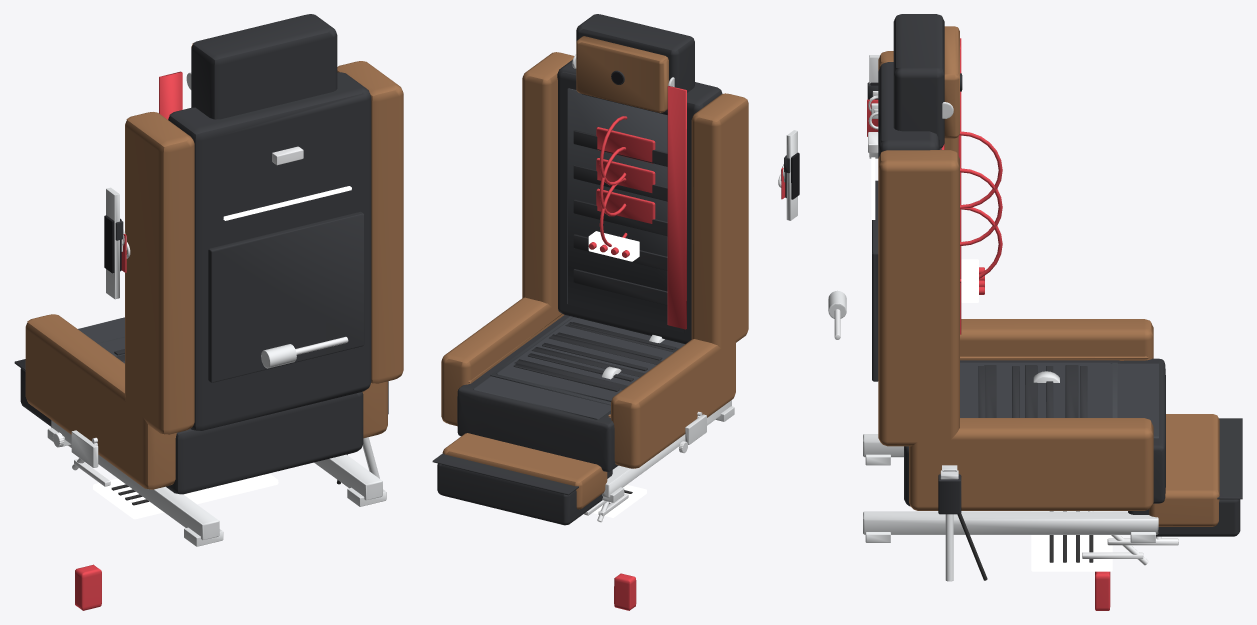
File: seat_executive_lounge.glb
The picture shows the model from 3 angles, left to right: view 1: azimuth 30°, elevation 25°; view 2: azimuth 150°, elevation 25°; view 3: azimuth 270°, elevation 25°; orthographic projection. The views are drawn at different scales.
Visible parts, largest first — view 1: Seat_Backrest_Center_Pad, Seat_Backrest_Wing_L, Seat_Rear_Magazine_Pocket, Seat_Base_Bolster_L, Seat_Headrest_Core, Seat_Base_Center_Cushion, Seat_Backrest_Wing_R, Seat_Slider_Rail_L, Seat_Exec_Ottoman_Calf_Rest_FootrestStepPlate, Seat_Slider_Rail_R, Seat_Base_Bolster_R, GEO_Seat_BeltLatch (+7 smaller); view 2: Seat_Backrest_Wing_L, Seat_Backrest_Perforated_Insert, Seat_Base_Bolster_L, Seat_Backrest_Wing_R, Seat_Thigh_Extension_CushionBody, Seat_Backrest_Center_Pad, Seat_Headrest_Memory_Foam_Pillow, Seat_Base_Bolster_R, Seat_Executive_3DKnit_Cushion_PerforatedFace, Seat_Belt_Webbing_Shoulder, Seat_Exec_Ottoman_Calf_Rest_CalfCushion, Seat_Deployable_Ottoman_Cushion (+21 smaller); view 3: Seat_Backrest_Wing_R, Seat_Base_Bolster_R, Seat_Base_Bolster_L, Seat_Slider_Rail_R, Seat_Deployable_Ottoman_Cushion, Seat_Headrest_Core, Seat_Executive_3DKnit_Cushion_PerforatedFace, Seat_Exec_Ottoman_Calf_Rest_FootrestStepPlate, Seat_Thigh_Extension_PerforatedInsert, Seat_Backrest_Center_Pad, Seat_Exec_Ottoman_Calf_Rest_PipingBorder, Seat_Headrest_Memory_Foam_Pillow (+14 smaller).
Part boxes in pixels (box(x1,y1,x2,y2)): Seat_Backrest_Center_Pad: box(168, 72, 371, 430); Seat_Backrest_Wing_L: box(125, 112, 194, 434); Seat_Rear_Magazine_Pocket: box(208, 211, 364, 382); Seat_Base_Bolster_L: box(25, 314, 176, 489); Seat_Headrest_Core: box(191, 14, 337, 119); Seat_Base_Center_Cushion: box(166, 392, 363, 494); Seat_Backrest_Wing_R: box(337, 61, 403, 383); Seat_Slider_Rail_L: box(51, 420, 219, 540); Seat_Exec_Ottoman_Calf_Rest_FootrestStepPlate: box(93, 473, 278, 519); Seat_Slider_Rail_R: box(314, 454, 382, 500); Seat_Base_Bolster_R: box(362, 381, 387, 438); GEO_Seat_BeltLatch: box(75, 564, 101, 610); Seat_Backrest_Wing_L: box(691, 93, 748, 349); Seat_Backrest_Perforated_Insert: box(567, 88, 685, 332); Seat_Base_Bolster_L: box(611, 339, 735, 468); Seat_Backrest_Wing_R: box(522, 52, 574, 308); Seat_Thigh_Extension_CushionBody: box(457, 376, 618, 471); Seat_Backrest_Center_Pad: box(557, 59, 722, 344); Seat_Headrest_Memory_Foam_Pillow: box(576, 36, 668, 112); Seat_Base_Bolster_R: box(441, 297, 561, 426); Seat_Executive_3DKnit_Cushion_PerforatedFace: box(496, 317, 684, 401); Seat_Belt_Webbing_Shoulder: box(667, 86, 686, 329); Seat_Exec_Ottoman_Calf_Rest_CalfCushion: box(437, 463, 612, 525); Seat_Deployable_Ottoman_Cushion: box(442, 433, 607, 509); Seat_Backrest_Wing_R: box(878, 150, 959, 446); Seat_Base_Bolster_R: box(909, 418, 1153, 510); Seat_Base_Bolster_L: box(960, 319, 1153, 360); Seat_Slider_Rail_R: box(863, 511, 1158, 534); Seat_Deployable_Ottoman_Cushion: box(1149, 414, 1219, 526); Seat_Headrest_Core: box(893, 14, 944, 148); Seat_Executive_3DKnit_Cushion_PerforatedFace: box(960, 363, 1112, 417); Seat_Exec_Ottoman_Calf_Rest_FootrestStepPlate: box(1031, 511, 1112, 571); Seat_Thigh_Extension_PerforatedInsert: box(1117, 363, 1158, 438); Seat_Backrest_Center_Pad: box(878, 62, 939, 157); Seat_Exec_Ottoman_Calf_Rest_PipingBorder: box(1217, 418, 1242, 499); Seat_Headrest_Memory_Foam_Pillow: box(944, 26, 959, 138).
Bounding box in the file's own units: 0.6885 × 1.31 × 0.8127.
